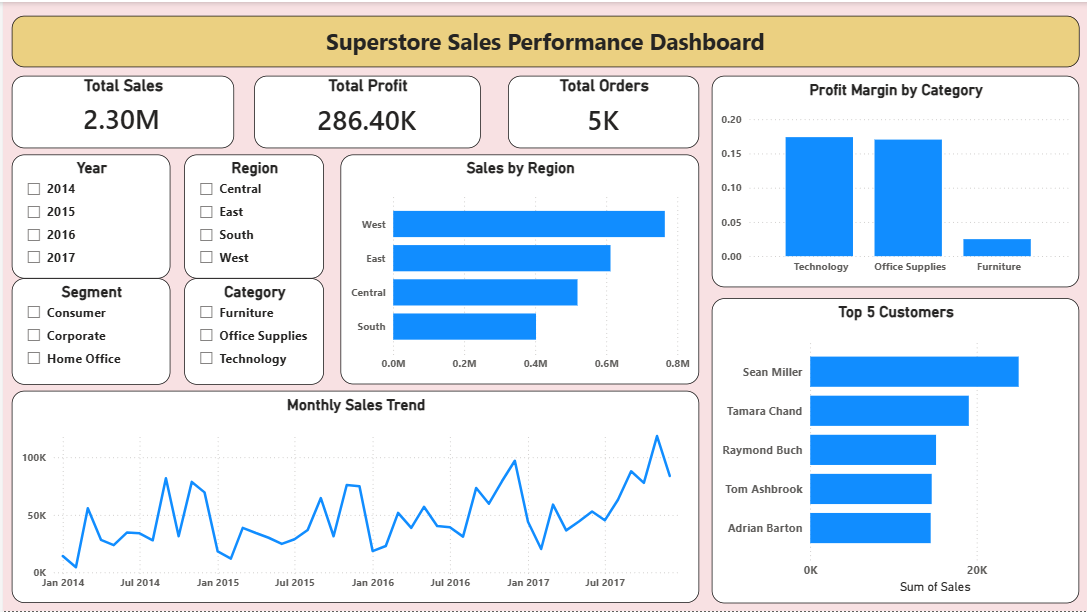

What the dashboard file says about the page in this screenshot:
{"tool":"powerbi","page":{"name":"Page 1","canvas":[1280,720],"ordinal":0},"visuals":[{"type":"clusteredBarChart","title":"Sales by Region","fields":{"Category":["Dim_Customers.Region"],"Y":["Sum(superstore_db orders.Sales)"]},"box":[398.2,179.9,423.3,271.4],"z":0},{"type":"clusteredColumnChart","title":"Profit Margin by Category","fields":{"Y":["Dim_Customers.Profit Margin %"],"Category":["superstore_db orders.Category"]},"box":[836.3,87,433.6,249.3],"z":1000},{"type":"lineChart","title":"Monthly Sales Trend","fields":{"Y":["Sum(superstore_db orders.Sales)"],"Category":["superstore_db orders.Order_Date.Variation.Date Hierarchy.Year","superstore_db orders.Order_Date.Variation.Date Hierarchy.Month"]},"box":[10.3,458.7,811.2,250.7],"z":2000},{"type":"clusteredBarChart","title":"Top 5 Customers","fields":{"Category":["Dim_Customers.Customer_Name"],"Y":["Sum(superstore_db orders.Sales)"]},"box":[836.3,349.6,433.6,359.9],"z":3000},{"type":"cardVisual","title":"Total Sales","fields":{"Data":["Sum(superstore_db orders.Sales)"]},"box":[10.3,87,262.5,85.5],"z":4000},{"type":"cardVisual","title":"Total Profit","fields":{"Data":["Sum(superstore_db orders.Profit)"]},"box":[296.5,87,267,85.5],"z":5000},{"type":"cardVisual","title":"Total Orders","fields":{"Data":["Dim_Customers.Total Orders"]},"box":[595.9,87,225.7,85.5],"z":6000},{"type":"slicer","title":"Region","fields":{"Values":["Dim_Customers.Region"]},"box":[213.9,179.9,165.2,146],"z":7000},{"type":"slicer","title":"Segment","fields":{"Values":["Dim_Customers.Segment"]},"box":[10.3,326,187.3,125.4],"z":8000},{"type":"slicer","title":"Category","fields":{"Values":["superstore_db orders.Category"]},"box":[213.9,326,165.2,125.4],"z":9000},{"type":"textbox","box":[10.3,16.2,1259.6,60.5],"z":10000},{"type":"slicer","title":"Year","fields":{"Values":["superstore_db orders.Order_Date.Variation.Date Hierarchy.Year"]},"box":[10.3,179.9,187.3,146],"z":10001}]}

Visuals, with their boxes in screenshot pixels (x1, y1, x2, y2), scaled from the page's 1280x720 canvas onto the 1087x612 screenshot:
"Sales by Region" clusteredBarChart: pyautogui.locateOnScreen(338, 153, 698, 384)
"Profit Margin by Category" clusteredColumnChart: pyautogui.locateOnScreen(710, 74, 1078, 286)
"Monthly Sales Trend" lineChart: pyautogui.locateOnScreen(9, 390, 698, 603)
"Top 5 Customers" clusteredBarChart: pyautogui.locateOnScreen(710, 297, 1078, 603)
"Total Sales" cardVisual: pyautogui.locateOnScreen(9, 74, 232, 147)
"Total Profit" cardVisual: pyautogui.locateOnScreen(252, 74, 479, 147)
"Total Orders" cardVisual: pyautogui.locateOnScreen(506, 74, 698, 147)
"Region" slicer: pyautogui.locateOnScreen(182, 153, 322, 277)
"Segment" slicer: pyautogui.locateOnScreen(9, 277, 168, 384)
"Category" slicer: pyautogui.locateOnScreen(182, 277, 322, 384)
textbox: pyautogui.locateOnScreen(9, 14, 1078, 65)
"Year" slicer: pyautogui.locateOnScreen(9, 153, 168, 277)
